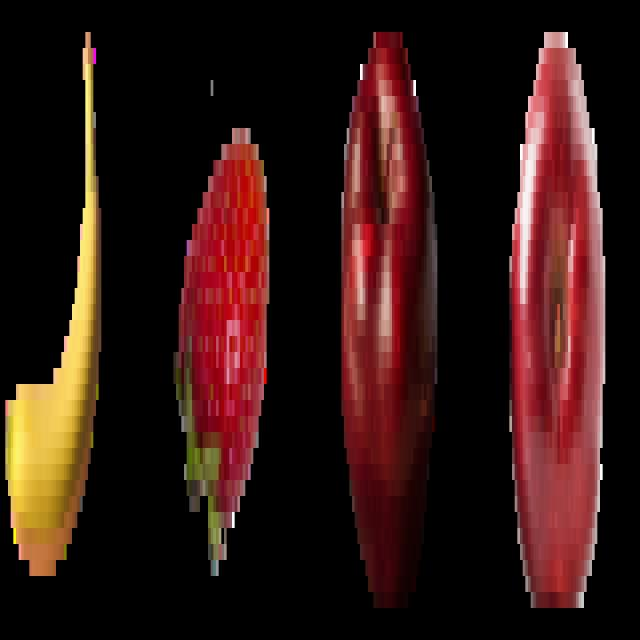apple: (338, 19, 440, 622), (506, 19, 605, 621)
bananas: (5, 19, 104, 599)
strawberry: (171, 102, 274, 591)
